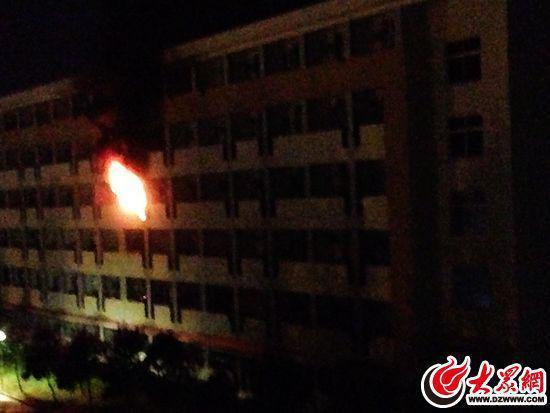fire: (89, 141, 158, 226)
